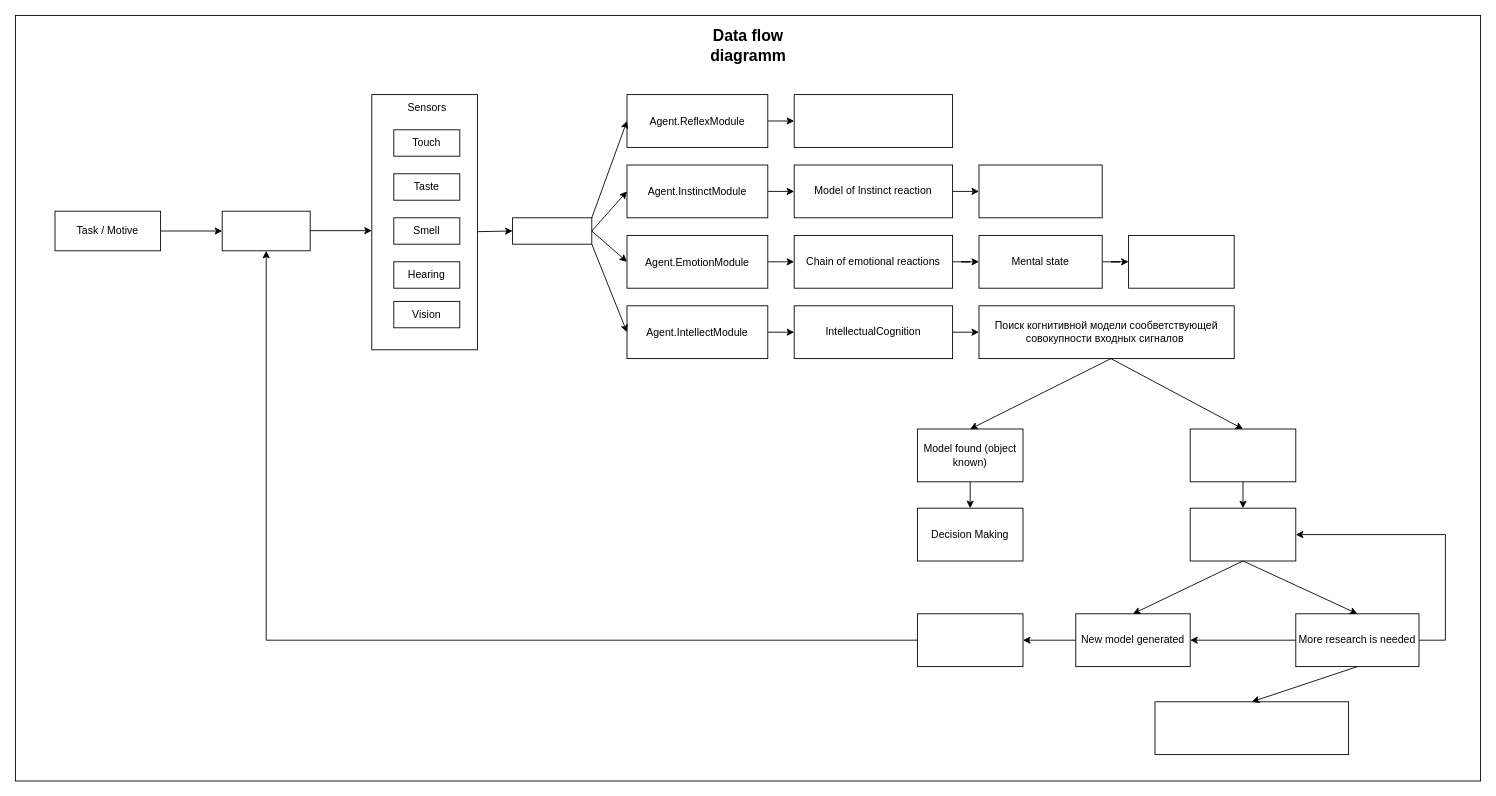
Image size: 1496x796. Some labels were removed from this diagram. The shapes that lost their labels are listed below. From the top down, each one's centre as x and y in pixels, then its label:
point 873,120: Reflex action
point 1040,191: Instinct action
point 265,230: Next step
point 552,230: Signals
point 1181,261: Emotional reaction
point 1242,455: Model not found (object unknown)
point 1242,534: Research
point 970,640: New skill / Action
point 1251,728: The research did not yield any results.
